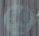Speed limit: (2, 3, 35, 35)
